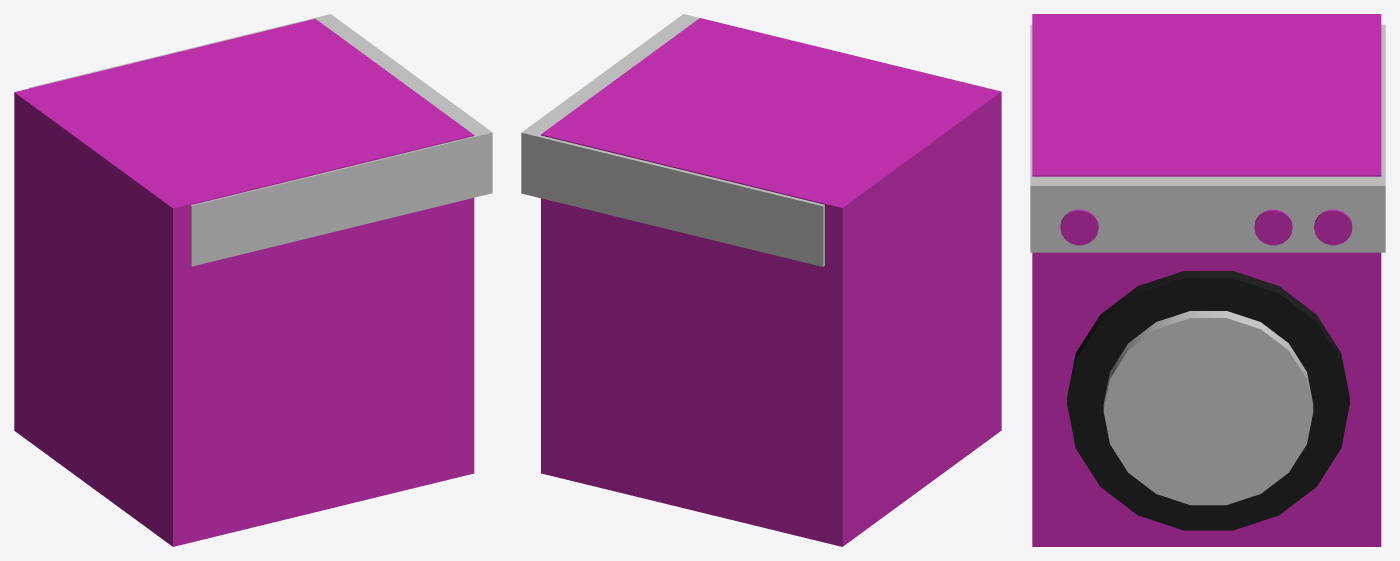
File: Washing.fbx
3 renders of one model, left to right at view 1: azimuth 30°, elevation 25°; view 2: azimuth 150°, elevation 25°; view 3: azimuth 270°, elevation 25°, orthographic. The views are drawn at different scales.
Visible parts, largest first — view 1: Washing-Machine; view 2: Washing-Machine; view 3: Washing-Machine.
Part boxes in pixels (x1=…): Washing-Machine: x1=14, y1=14, x2=492, y2=546; Washing-Machine: x1=521, y1=14, x2=1001, y2=546; Washing-Machine: x1=1030, y1=14, x2=1385, y2=546.
Size of the model in its own units: 1.58 by 1.56 by 1.35.
